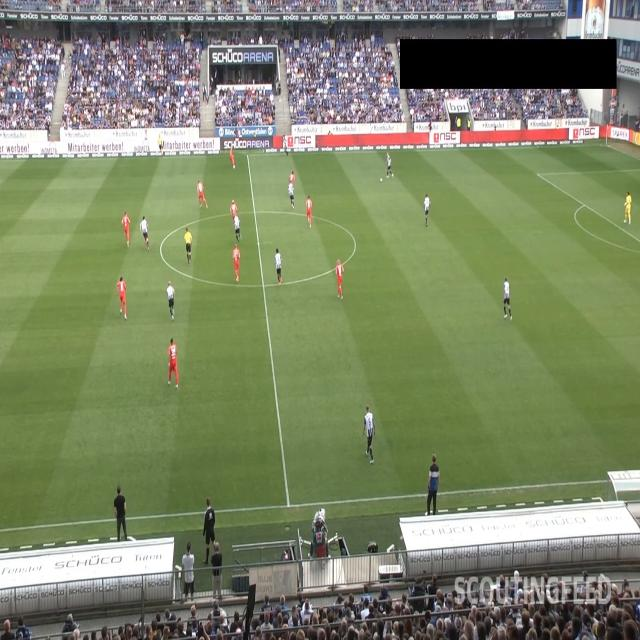ball: (379, 177, 383, 183)
